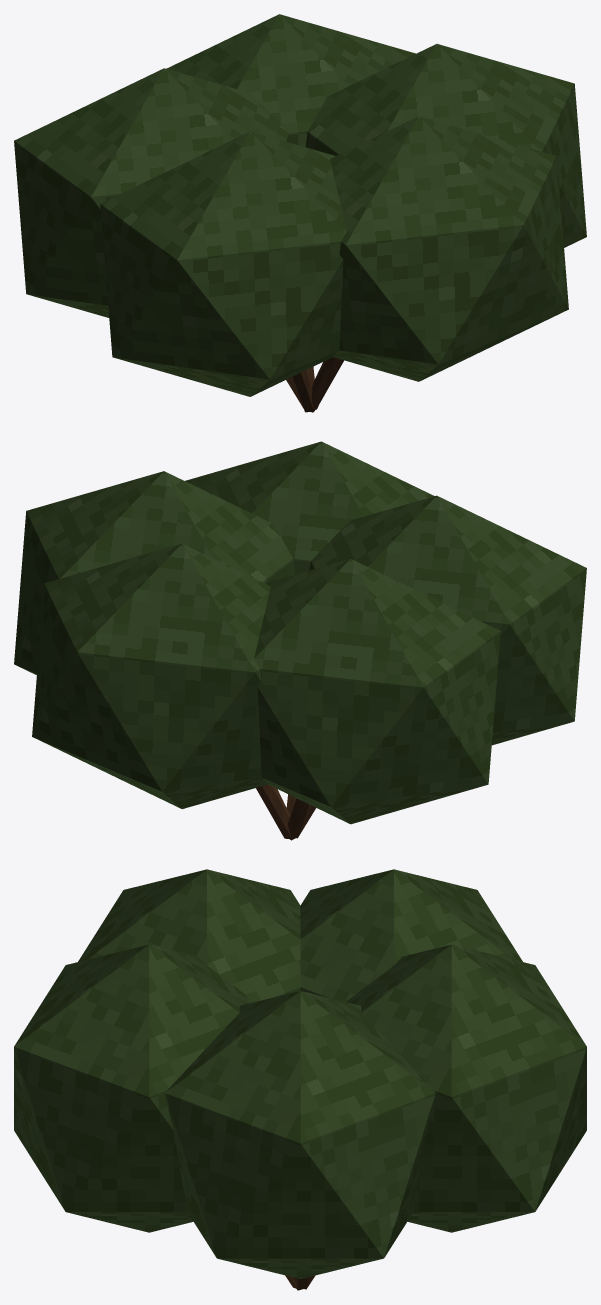
File: level_woodland_scrub.glb
3 views of the same model, one above another, from view 1: azimuth 30°, elevation 25°; view 2: azimuth 150°, elevation 25°; view 3: azimuth 270°, elevation 25° (orthographic). The views are drawn at different scales.
Visible parts, largest first — view 1: level_woodland_scrub; view 2: level_woodland_scrub; view 3: level_woodland_scrub.
Boxes of the visible parts, x1,y1,x2,y2 form: level_woodland_scrub: (14,14,586,412); level_woodland_scrub: (14,441,586,840); level_woodland_scrub: (14,869,586,1290).
Bounding box in the file's own units: 1.11 × 0.7071 × 1.01.
Materials: 2 (2 with a texture image).
